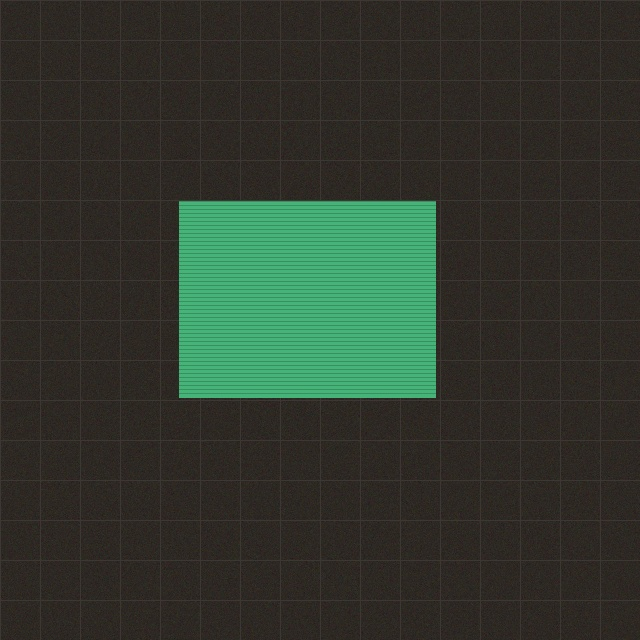normal: (179, 201, 435, 397)
